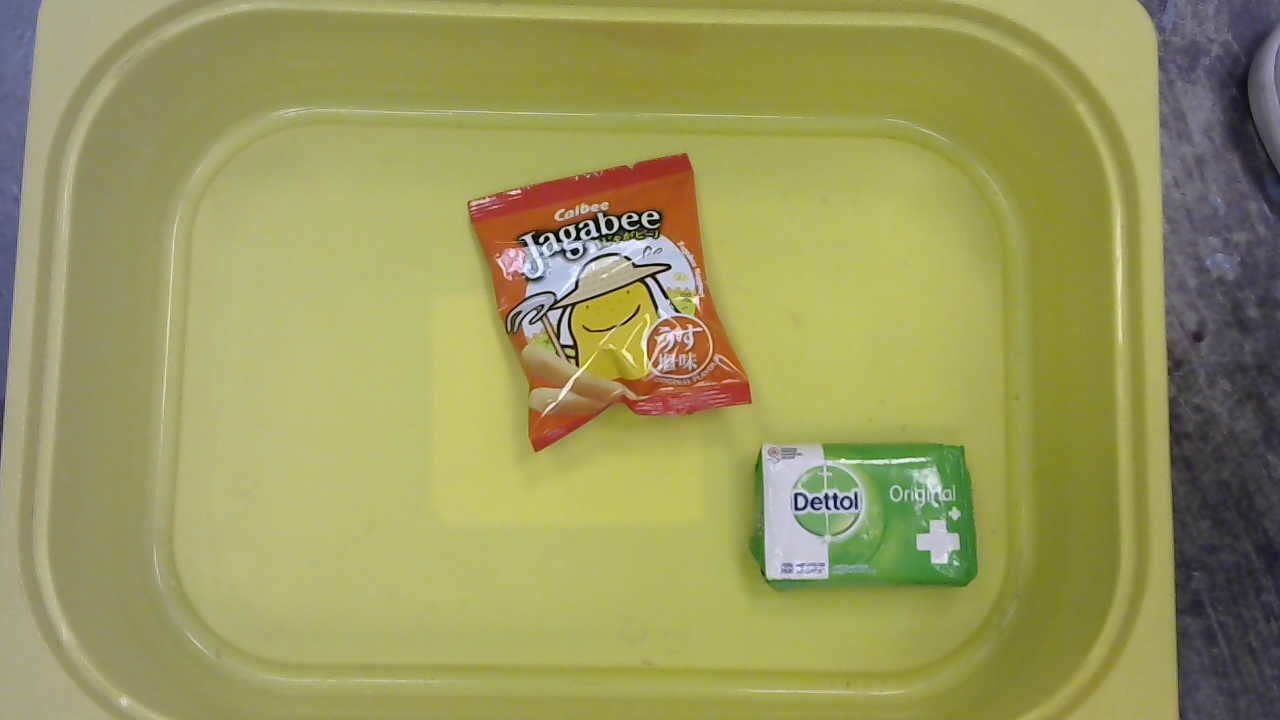Dettol: (745, 433, 980, 598)
JagabeeFarmer: (451, 151, 757, 450)
